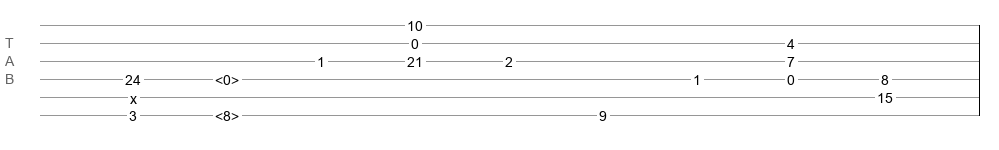0: (411, 36, 419, 46), (787, 72, 795, 82)
1: (317, 54, 325, 64), (693, 72, 701, 82)
10: (407, 18, 423, 28)
15: (877, 90, 893, 100)
2: (505, 54, 513, 64)
21: (407, 54, 423, 64)
24: (125, 72, 141, 82)
3: (129, 108, 137, 118)
4: (787, 36, 795, 46)
7: (787, 54, 795, 64)
8: (881, 72, 889, 82)
9: (599, 108, 607, 118)
harmonic: (215, 108, 239, 118), (215, 72, 239, 82)
x: (130, 91, 137, 99)
